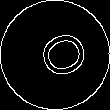O_SW: (23, 25, 87, 85)
